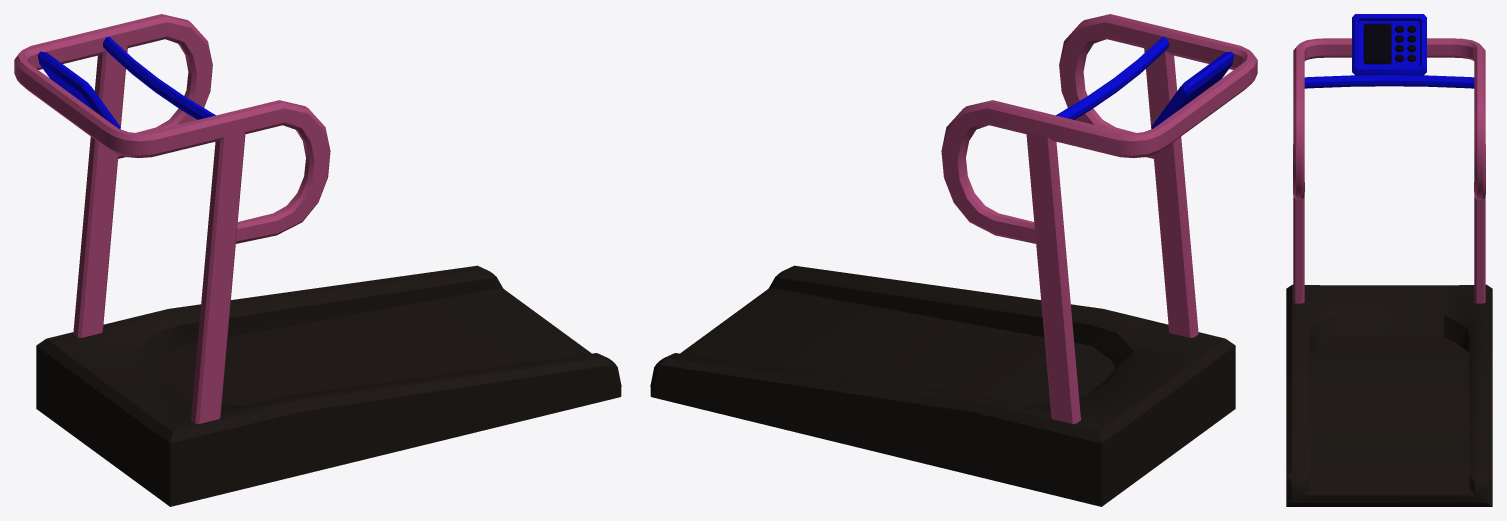
The model's file is Treadmill simulator.FBX.
3 views of the same model, side by side, from view 1: azimuth 30°, elevation 25°; view 2: azimuth 150°, elevation 25°; view 3: azimuth 270°, elevation 25° (orthographic). The views are drawn at different scales.
Parts seen in each view (by area): view 1: Treadmill simulator; view 2: Treadmill simulator; view 3: Treadmill simulator.
Boxes of the visible parts, x1,y1,x2,y2 form: Treadmill simulator: (14, 14, 621, 506); Treadmill simulator: (650, 14, 1257, 506); Treadmill simulator: (1286, 14, 1492, 506).
Bounding box in the file's own units: 1072 × 498 × 820.
